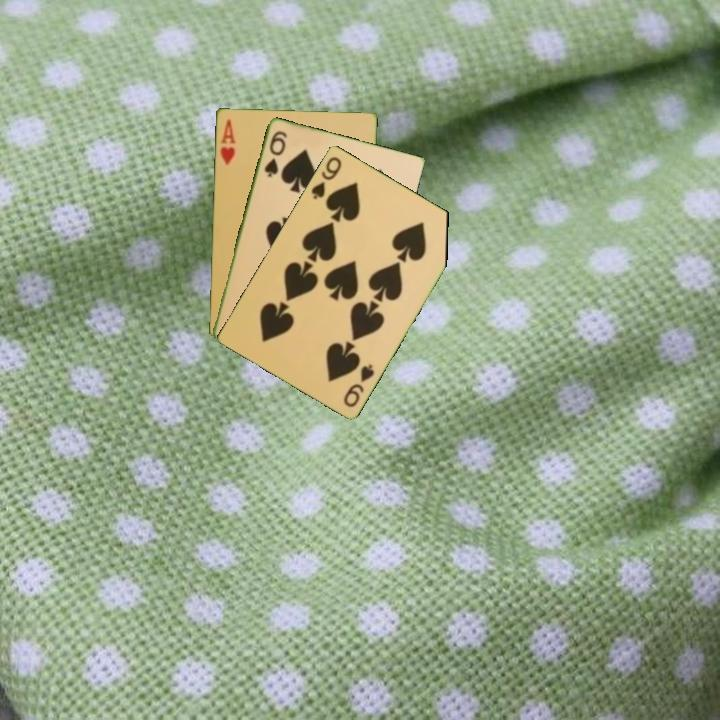6s: (260, 127, 290, 180)
9s: (307, 152, 344, 202), (340, 360, 377, 410)
Ah: (217, 115, 238, 168)
